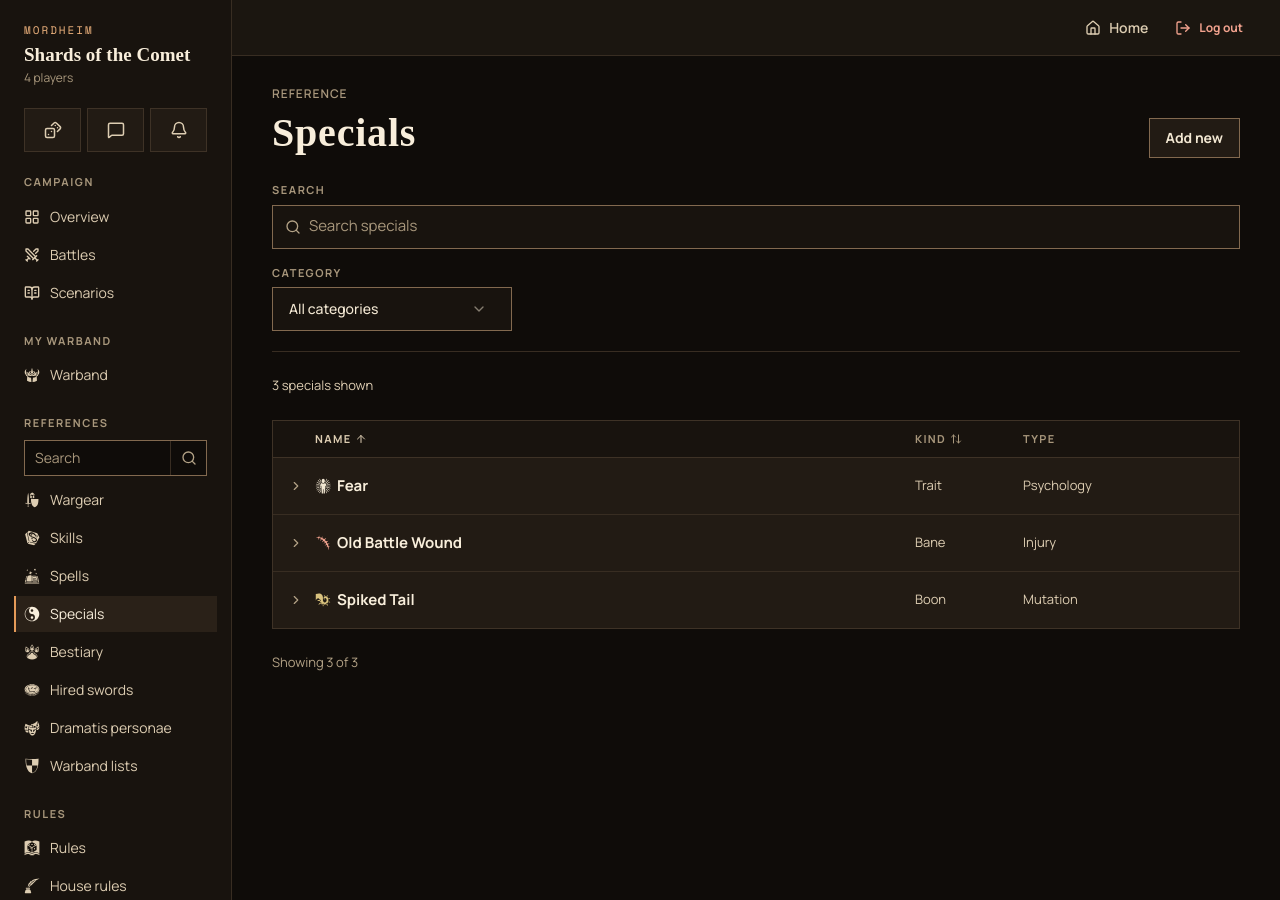
Test: The Specials page › links a psychology special to its part of the Rules page, and no other
The image size is (1280, 900).
Step 1. Click the button "Fear Trait Psychology" → click(353, 485), box [273, 458, 1239, 514]
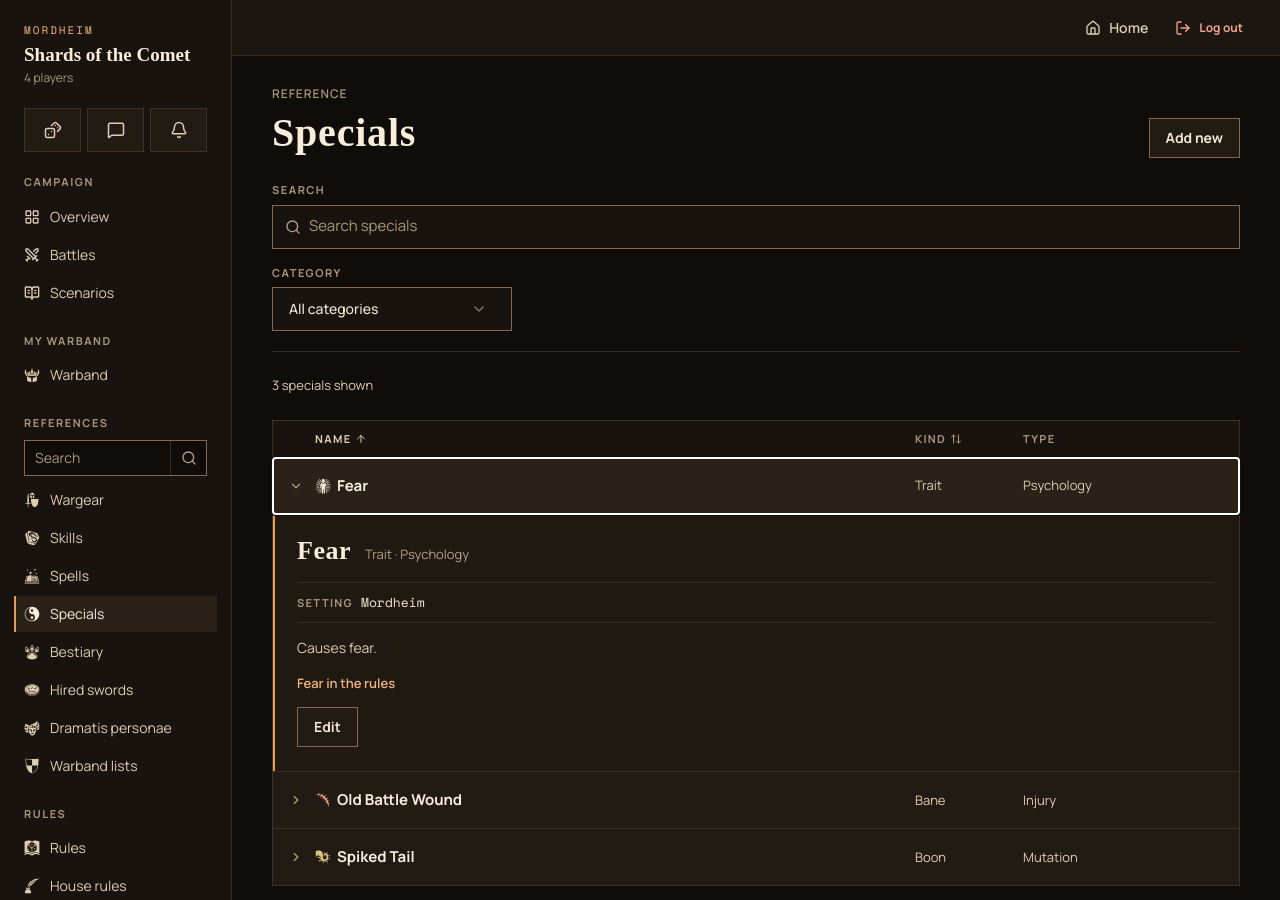
Step 2. Click the button "Old Battle Wound Bane Injury" → click(400, 800), box [273, 772, 1239, 828]
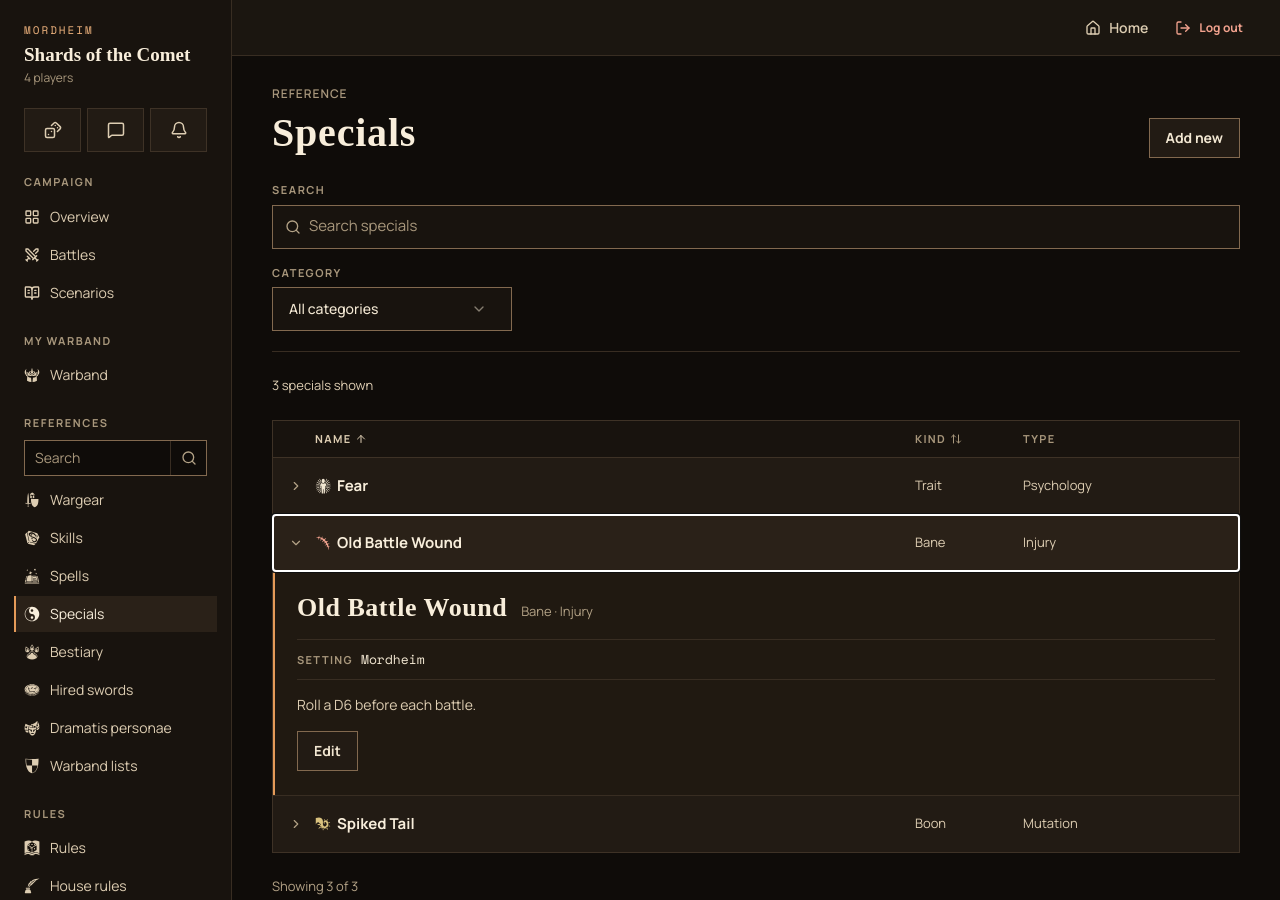
Expected: the link "in the rules" is gone
